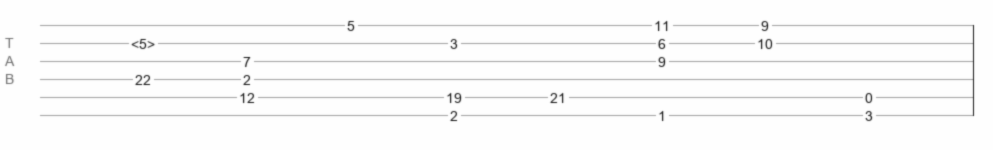0: (865, 90, 873, 100)
1: (658, 108, 666, 118)
10: (757, 36, 773, 46)
11: (654, 18, 670, 28)
12: (239, 90, 255, 100)
19: (446, 90, 462, 100)
2: (243, 72, 251, 82), (450, 108, 458, 118)
21: (550, 90, 566, 100)
22: (135, 72, 151, 82)
3: (450, 36, 458, 46), (865, 108, 873, 118)
5: (347, 18, 355, 28)
6: (658, 36, 666, 46)
7: (243, 54, 251, 64)
9: (658, 54, 666, 64), (761, 18, 769, 28)
harmonic: (131, 36, 155, 46)
